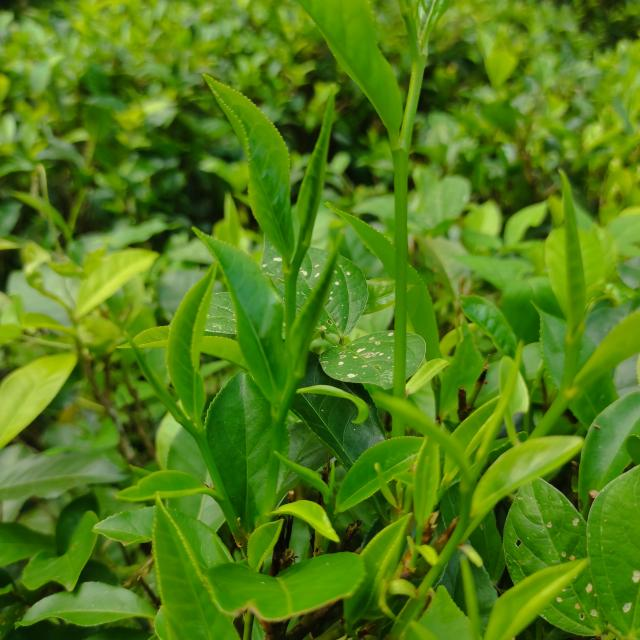unopened_leaf: (276, 232, 353, 394), (468, 329, 540, 490), (369, 380, 475, 489), (118, 324, 206, 442), (287, 80, 340, 265), (268, 441, 335, 502), (455, 548, 487, 640), (63, 191, 92, 226)
